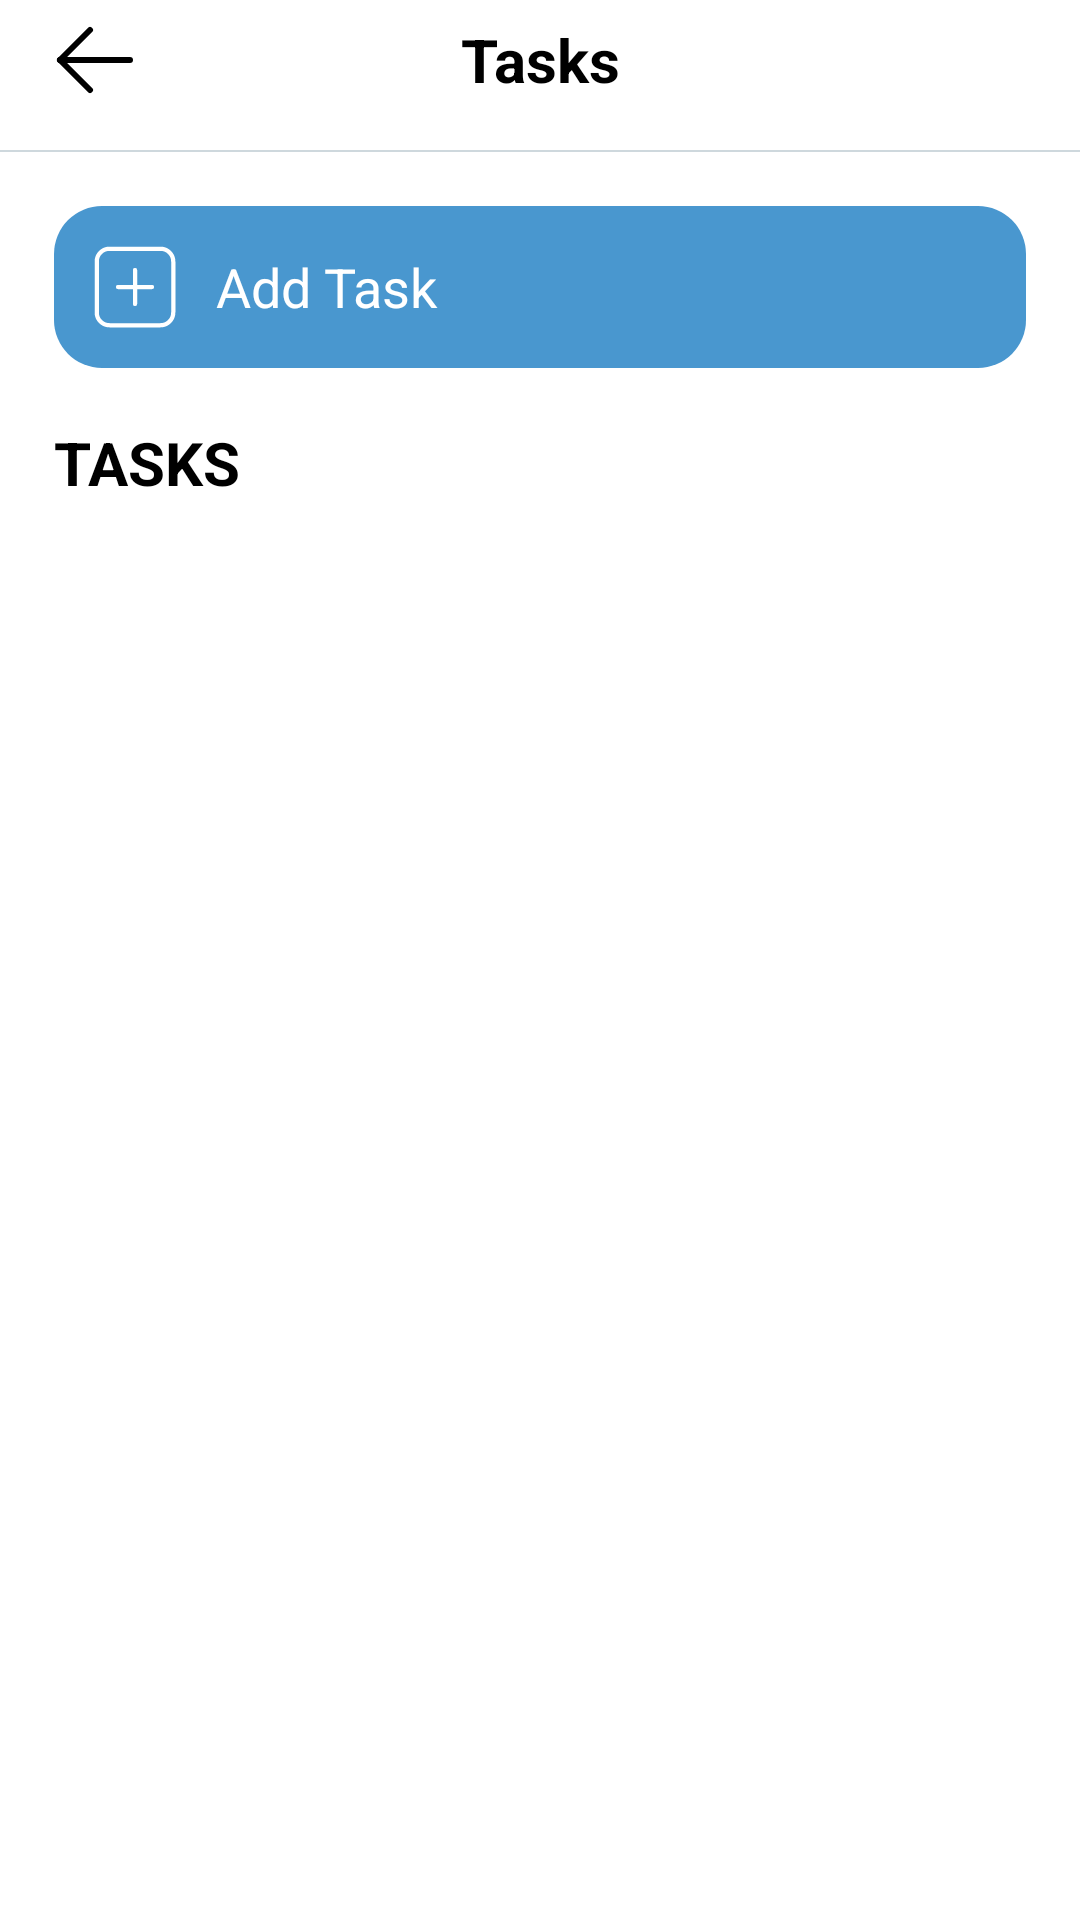

Icon click points for this 1080 × 1920 phone screenshot, format [x,y]:
arrow back: [94,60]
